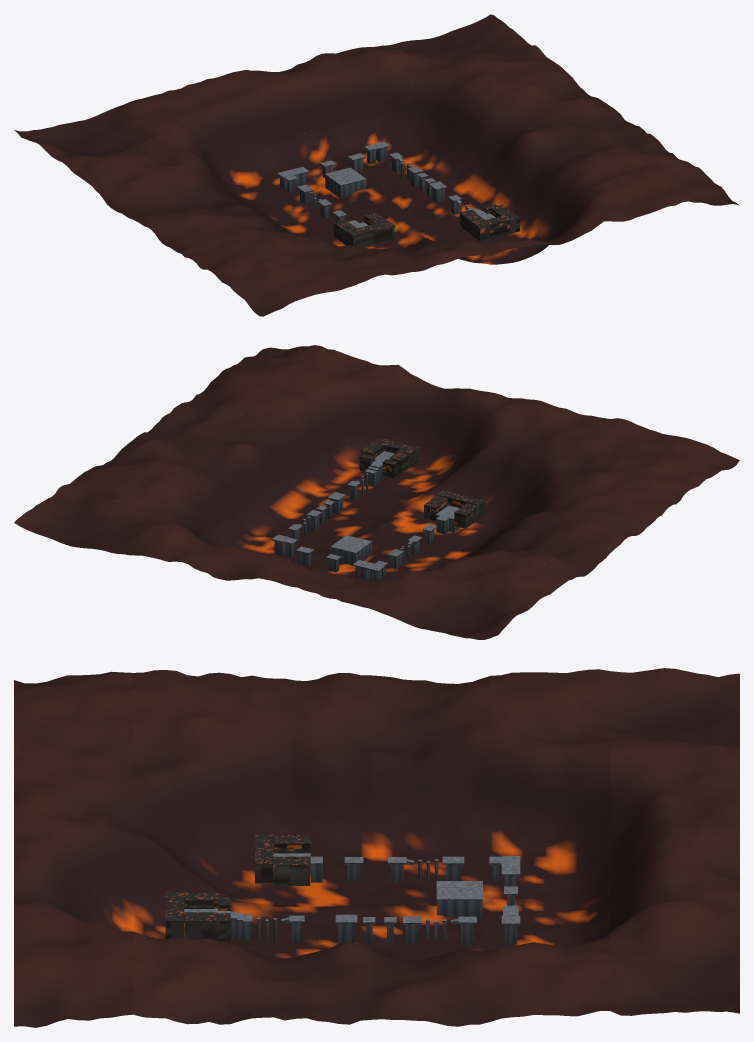
File: anvil_bridges_terrain.glb
3 renders of one model, top to bottom at view 1: azimuth 30°, elevation 25°; view 2: azimuth 150°, elevation 25°; view 3: azimuth 270°, elevation 25°, orthographic. The views are drawn at different scales.
Parts seen in each view (by area): view 1: backdrop_5, backdrop_4, backdrop_3, backdrop_2, backdrop_0, backdrop_1, terrain_A, terrain_J, terrain_E, terrain_G, terrain_H; view 2: backdrop_0, backdrop_1, backdrop_5, backdrop_2, backdrop_3, backdrop_4, terrain_A, terrain_J, terrain_I, terrain_E, terrain_G, terrain_B (+2 smaller); view 3: backdrop_5, backdrop_0, backdrop_4, backdrop_1, backdrop_3, backdrop_2, terrain_A, terrain_J, terrain_E, terrain_I, terrain_G, terrain_B (+2 smaller).
Part boxes in pixels (x1,y1,x2,y2): backdrop_5: [14, 14, 534, 160]; backdrop_4: [59, 45, 575, 200]; backdrop_3: [100, 82, 616, 230]; backdrop_2: [140, 111, 657, 253]; backdrop_0: [222, 167, 739, 316]; backdrop_1: [181, 140, 698, 282]; terrain_A: [333, 212, 394, 247]; terrain_J: [461, 204, 519, 240]; terrain_E: [320, 160, 366, 198]; terrain_G: [373, 141, 422, 187]; terrain_H: [417, 172, 446, 203]; backdrop_0: [223, 345, 739, 485]; backdrop_1: [181, 370, 698, 523]; backdrop_5: [14, 488, 534, 639]; backdrop_2: [141, 403, 657, 553]; backdrop_3: [100, 434, 616, 577]; backdrop_4: [59, 465, 575, 603]; terrain_A: [424, 490, 484, 532]; terrain_J: [361, 437, 419, 473]; terrain_I: [347, 453, 398, 500]; terrain_E: [326, 535, 371, 572]; terrain_G: [272, 510, 321, 555]; terrain_B: [408, 516, 449, 554]; backdrop_5: [610, 668, 739, 1015]; backdrop_0: [14, 671, 133, 1027]; backdrop_4: [490, 669, 609, 1021]; backdrop_1: [133, 670, 252, 1024]; backdrop_3: [371, 675, 490, 1026]; backdrop_2: [252, 673, 371, 1024]; terrain_A: [255, 833, 310, 885]; terrain_J: [165, 892, 218, 940]; terrain_E: [436, 881, 517, 918]; terrain_I: [218, 897, 304, 943]; terrain_G: [403, 915, 520, 944]; terrain_B: [310, 856, 414, 882].
Bounding box in the file's own units: 518 × 62.43 × 469.
